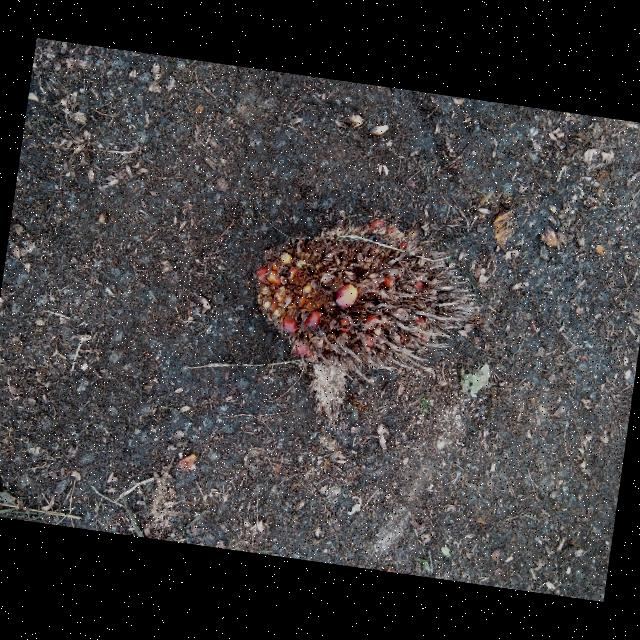Overripe: (254, 218, 476, 429)
